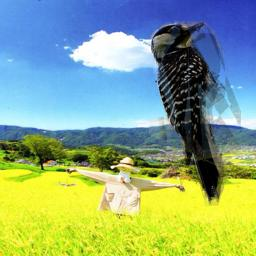Woodpecker: (149, 21, 241, 209)
